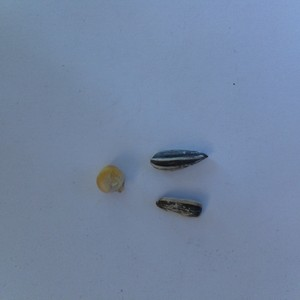girasol: (147, 145, 210, 172), (151, 192, 204, 221)
maiz: (94, 161, 125, 197)
